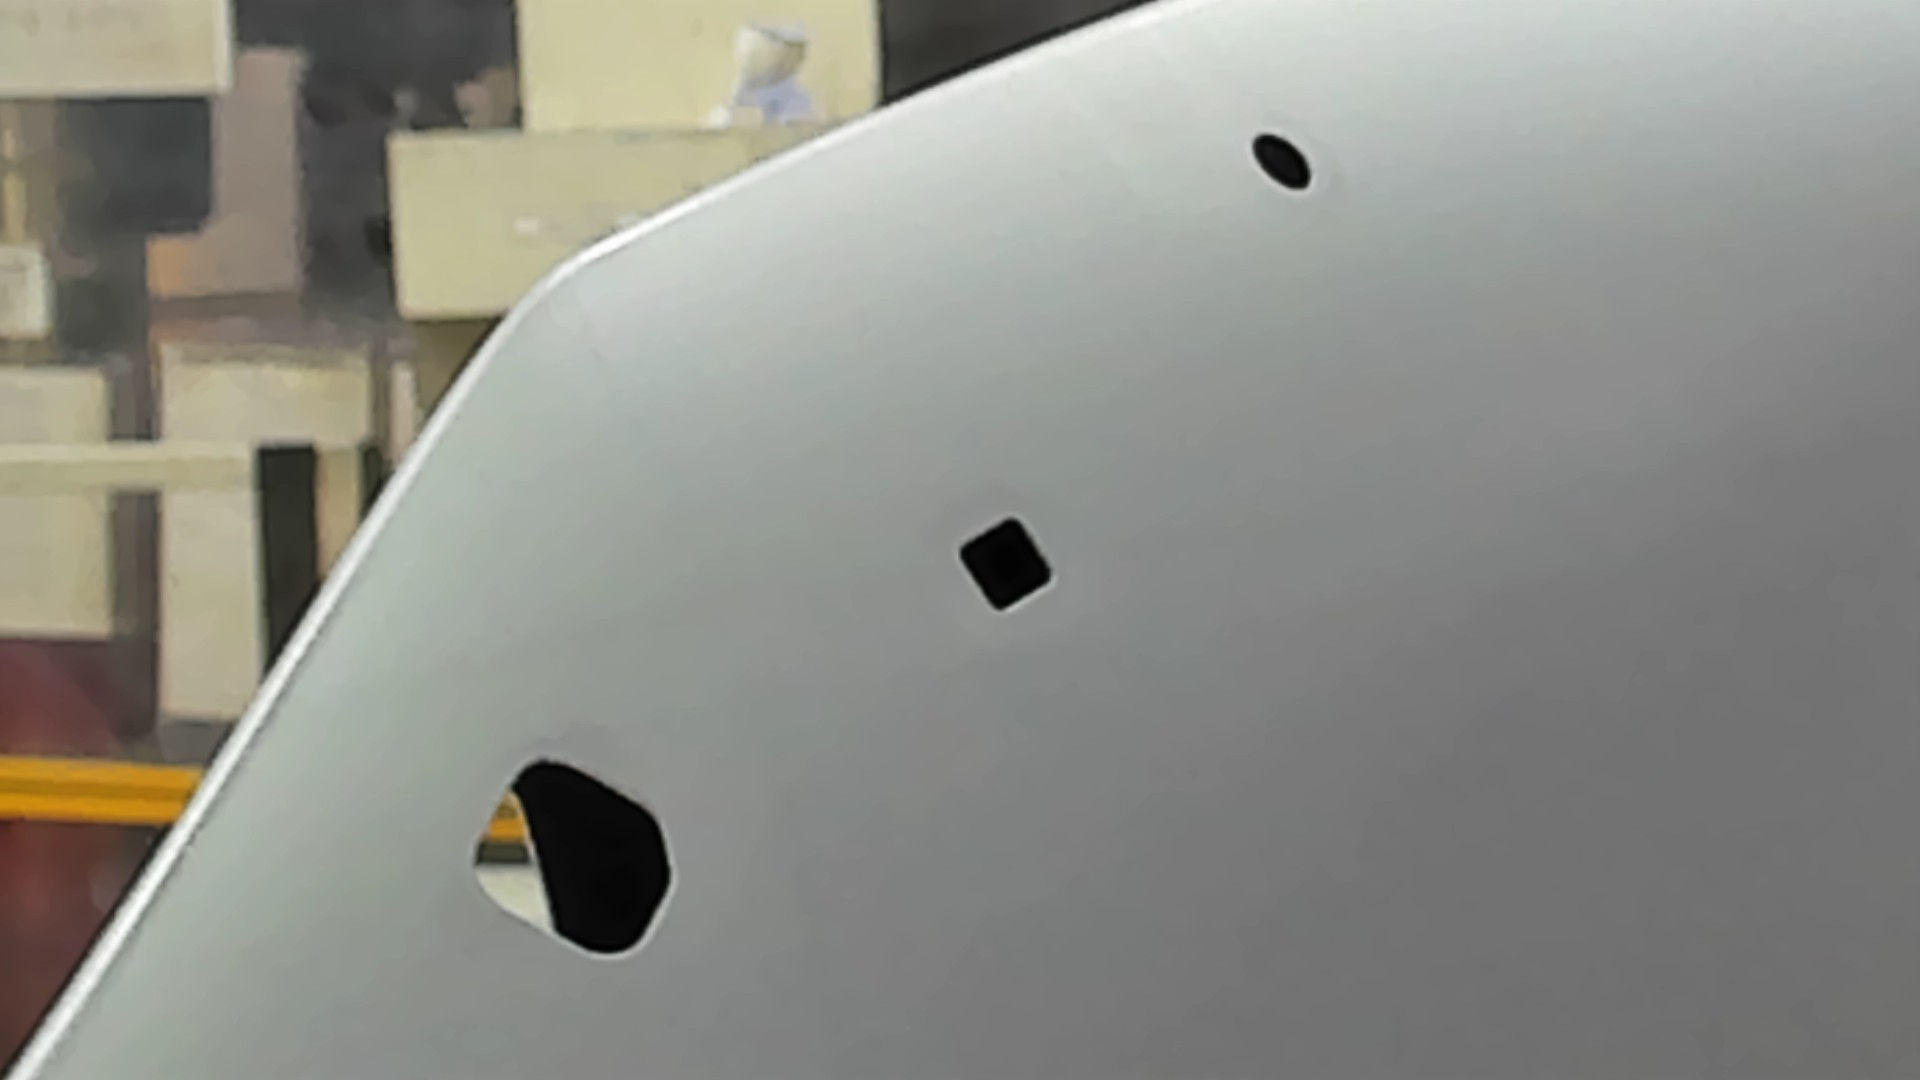capo: (1065, 203, 1920, 1080)
chico: (1245, 131, 1317, 199)
grande: (468, 752, 678, 965)
mediano: (948, 509, 1063, 622)
